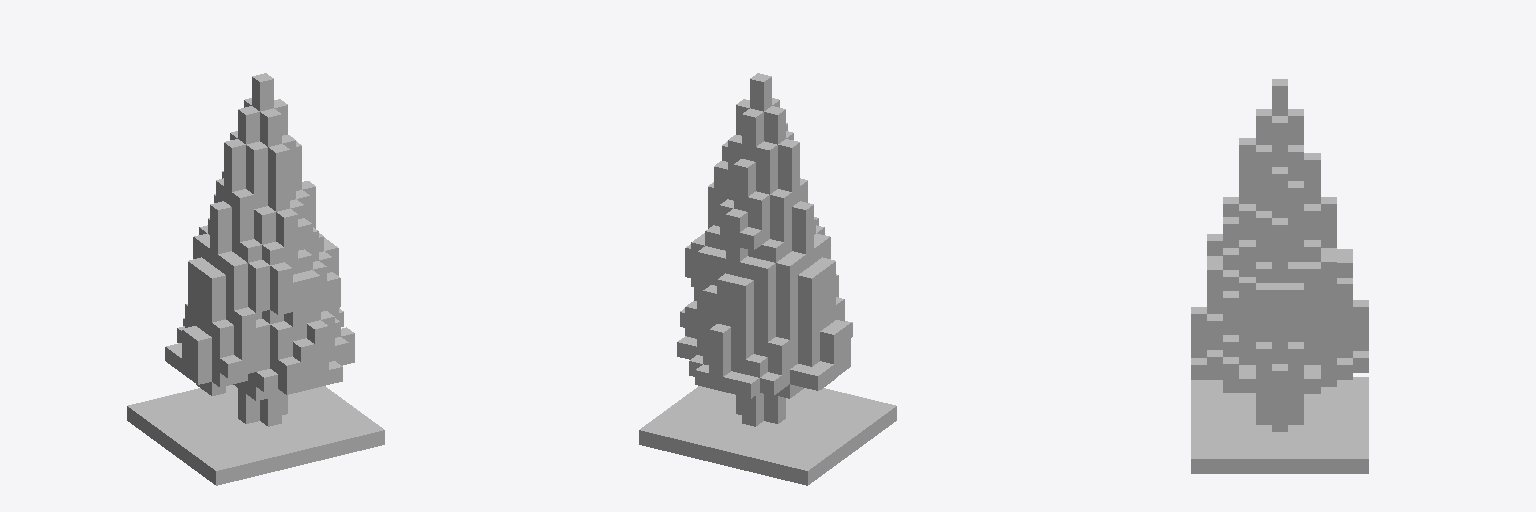
File: voxel-tree.obj
The picture shows the model from 3 angles: view 1: azimuth 30°, elevation 25°; view 2: azimuth 150°, elevation 25°; view 3: azimuth 270°, elevation 25°; orthographic projection.
Parts seen in each view (by area): view 1: Christmas_Tree_Test__100_4_114_to_111_27_124; view 2: Christmas_Tree_Test__100_4_114_to_111_27_124; view 3: Christmas_Tree_Test__100_4_114_to_111_27_124.
Part boxes in pixels (x1,y1,x2,y2): Christmas_Tree_Test__100_4_114_to_111_27_124: (127, 73, 384, 485); Christmas_Tree_Test__100_4_114_to_111_27_124: (639, 73, 896, 485); Christmas_Tree_Test__100_4_114_to_111_27_124: (1191, 79, 1368, 473).
Bounding box in the file's own units: 1.2 × 2.4 × 1.1.